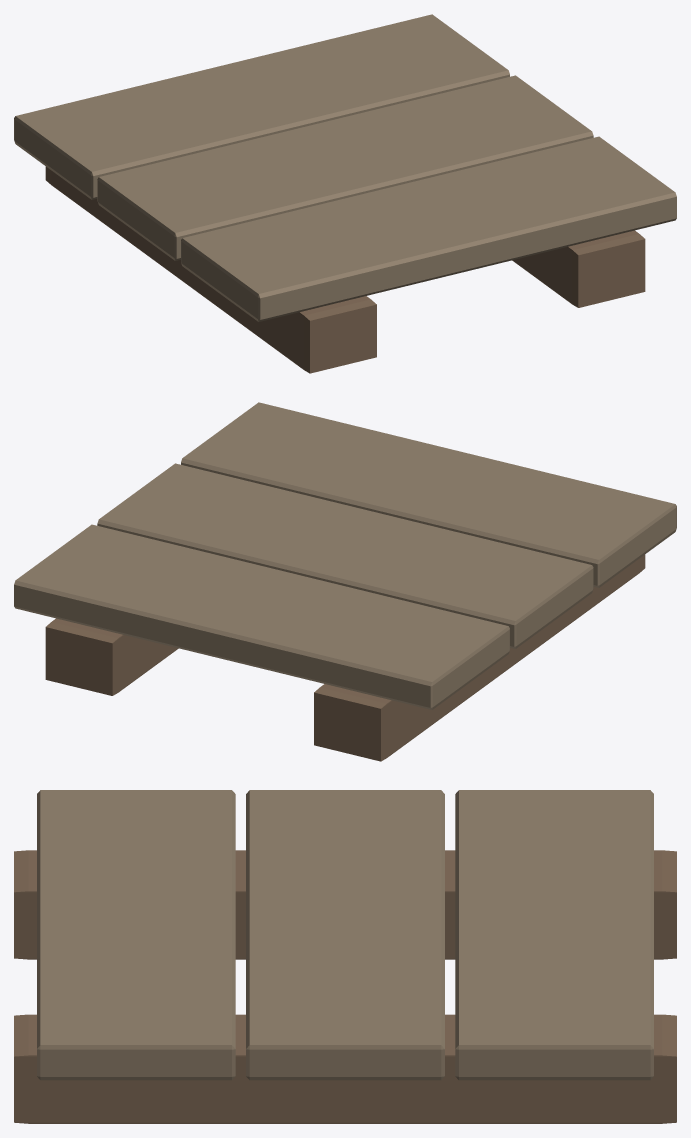
File: LandingSkid.glb
3 views of the same model, one above another, from view 1: azimuth 30°, elevation 25°; view 2: azimuth 150°, elevation 25°; view 3: azimuth 270°, elevation 25° (orthographic). The views are drawn at different scales.
Visible parts, largest first — view 1: LandingSkid; view 2: LandingSkid; view 3: LandingSkid.
Boxes of the visible parts, x1,y1,x2,y2 form: LandingSkid: (14,14,676,373); LandingSkid: (14,402,676,761); LandingSkid: (14,790,676,1123).
Size of the model in its own units: 0.53 by 0.1 by 0.58.
